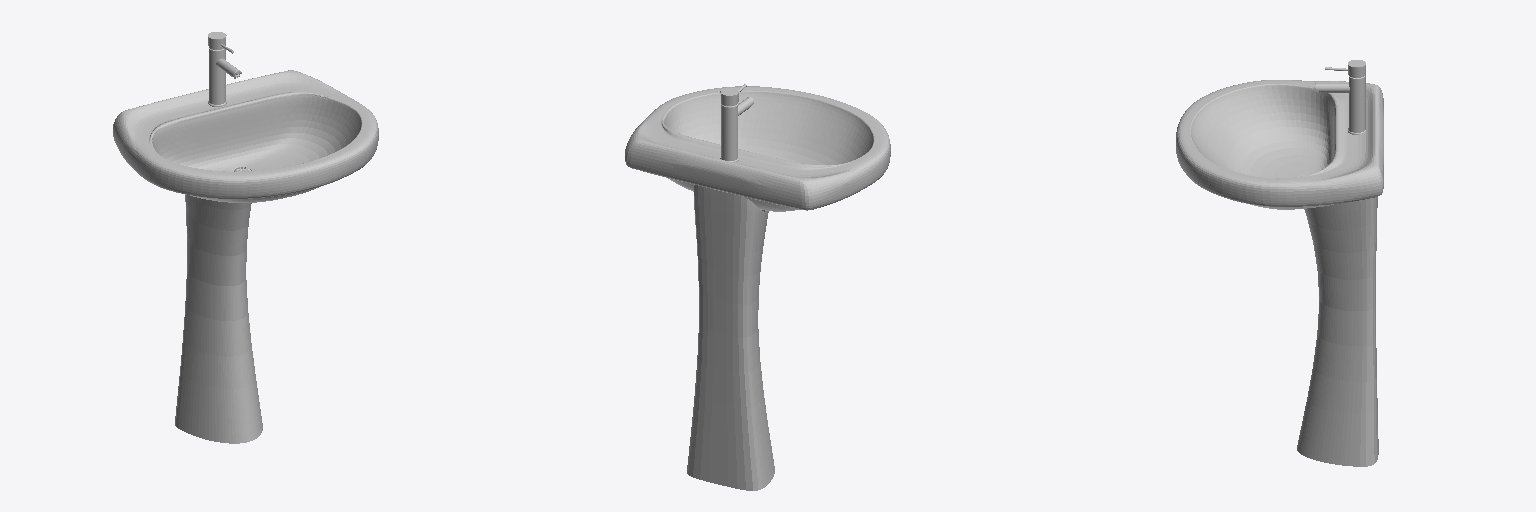
File: bathroom_washbasin.obj
3 views of the same model, side by side, from view 1: azimuth 30°, elevation 25°; view 2: azimuth 150°, elevation 25°; view 3: azimuth 270°, elevation 25° (orthographic).
Parts seen in each view (by area): view 1: sink_Plane.001, sink_base_Circle, water_mixer_Cylinder.001; view 2: sink_Plane.001, sink_base_Circle, water_mixer_Cylinder.001; view 3: sink_Plane.001, sink_base_Circle, water_mixer_Cylinder.001.
Part boxes in pixels (x1,y1,x2,y2): sink_Plane.001: (113,70,378,202); sink_base_Circle: (175,195,262,443); water_mixer_Cylinder.001: (208,32,241,106); sink_Plane.001: (625,86,890,211); sink_base_Circle: (687,184,774,490); water_mixer_Cylinder.001: (720,84,753,162); sink_Plane.001: (1176,80,1383,209); sink_base_Circle: (1297,197,1378,466); water_mixer_Cylinder.001: (1315,60,1365,134).
Bounding box in the file's own units: 56.36 × 93.07 × 45.72.